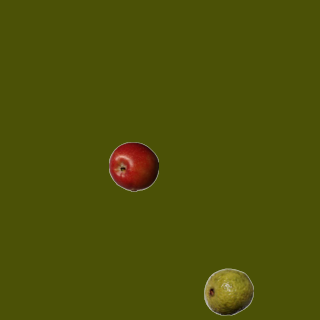Apple Braeburn: (108, 141, 158, 191)
Guava: (203, 266, 253, 316)
